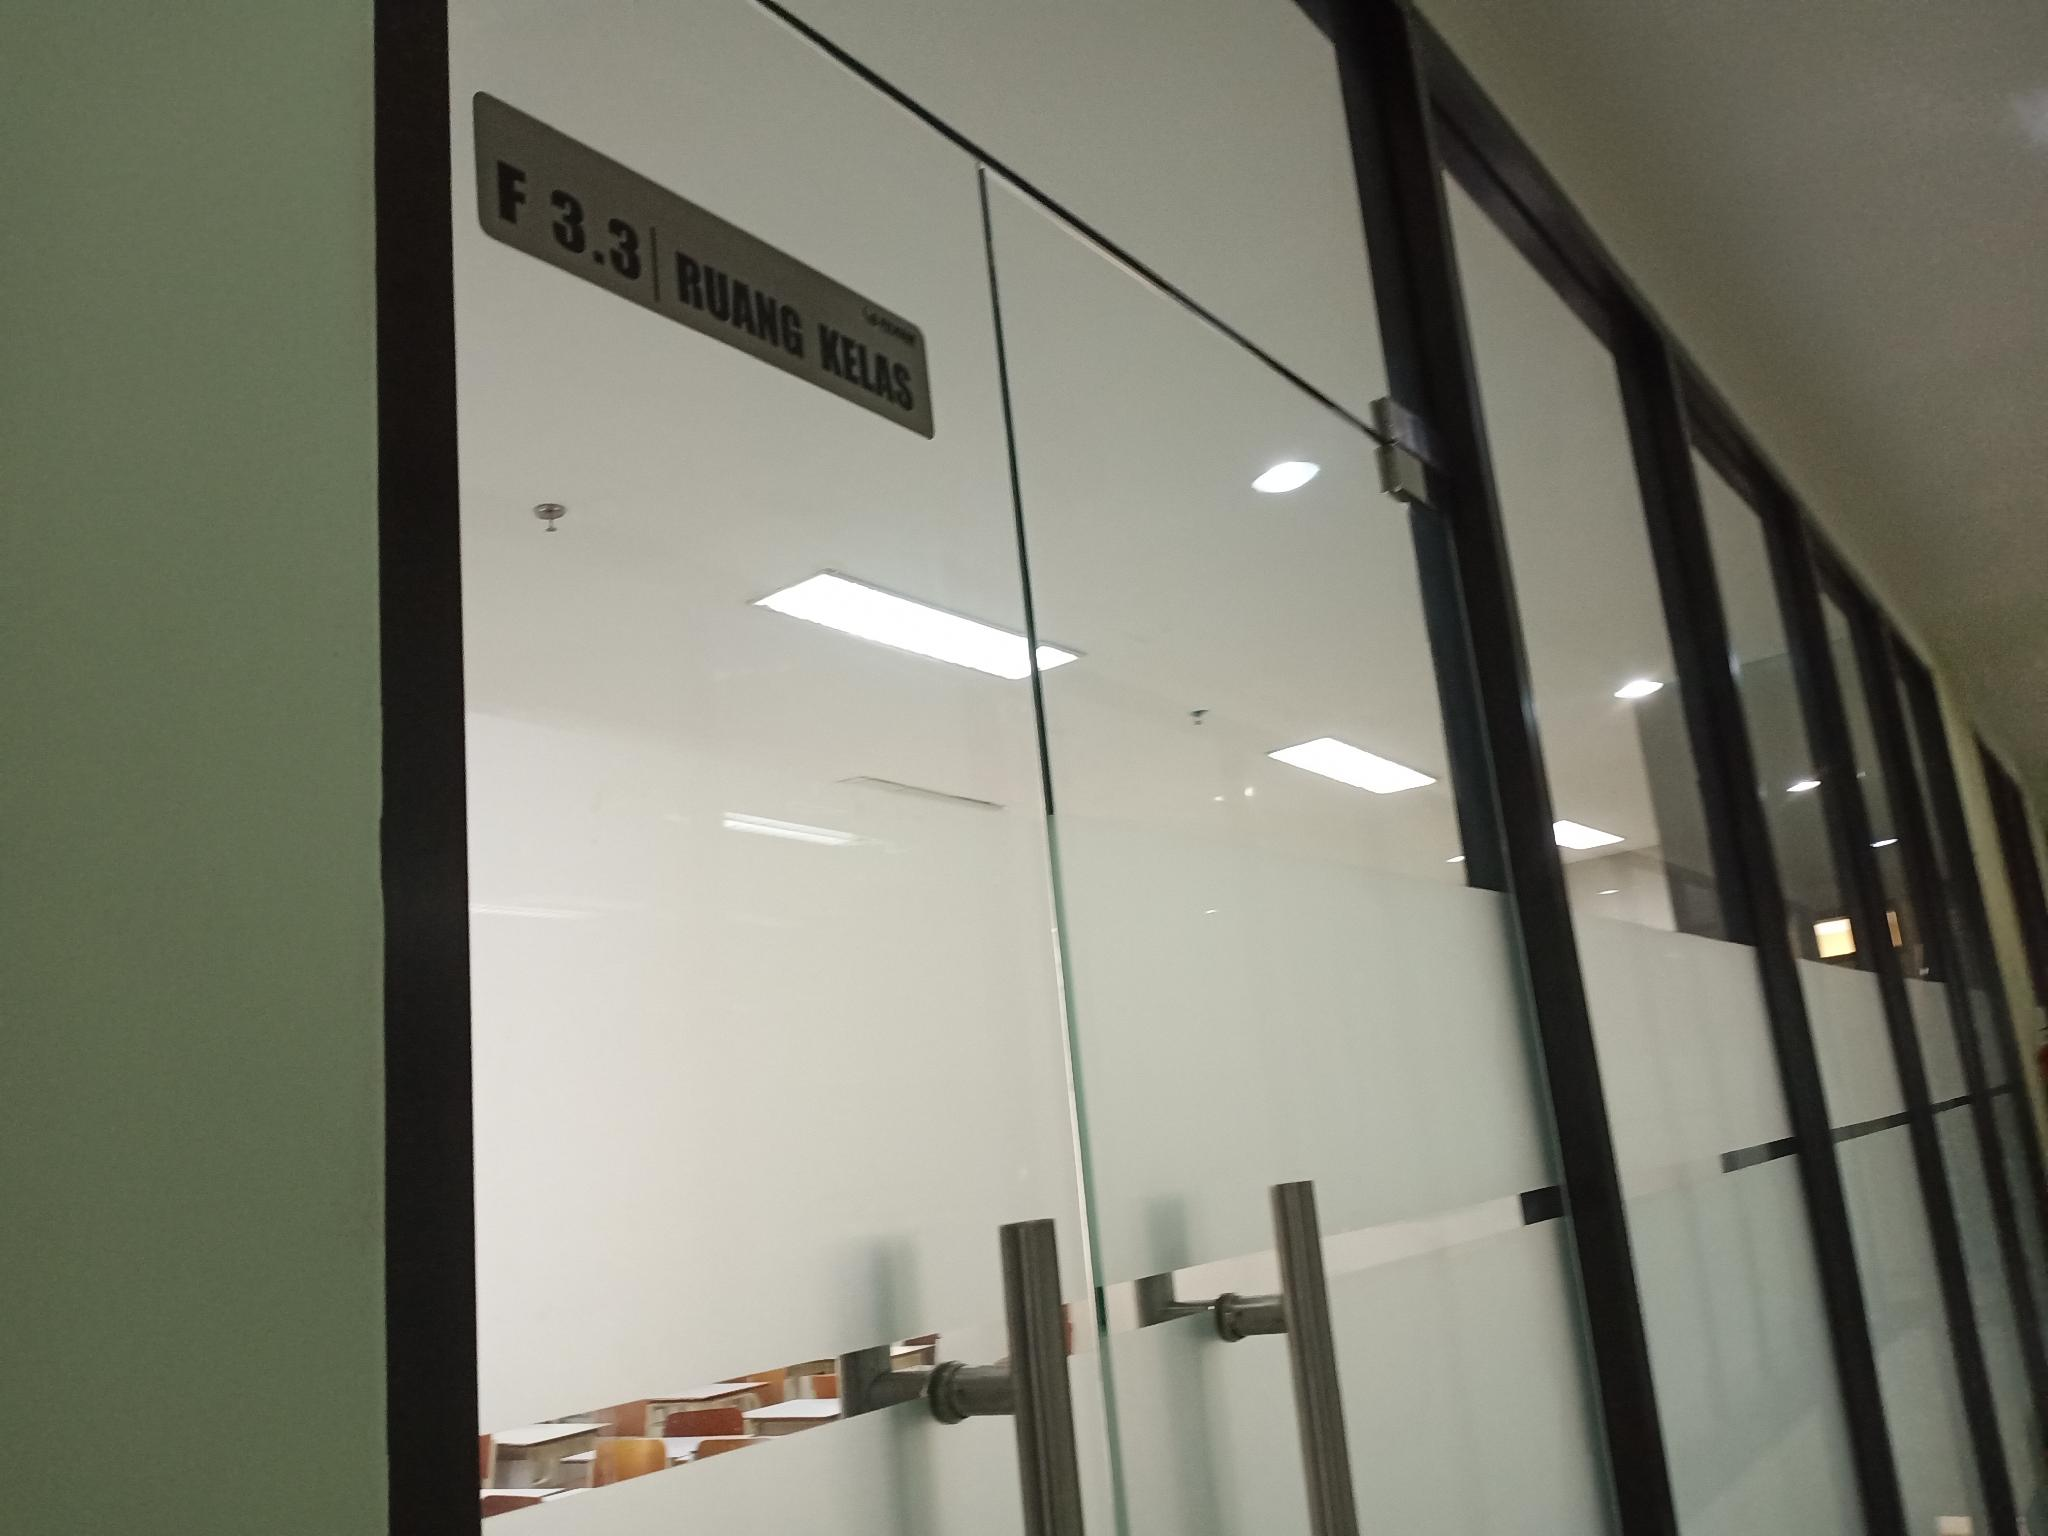plate: (471, 87, 935, 440)
